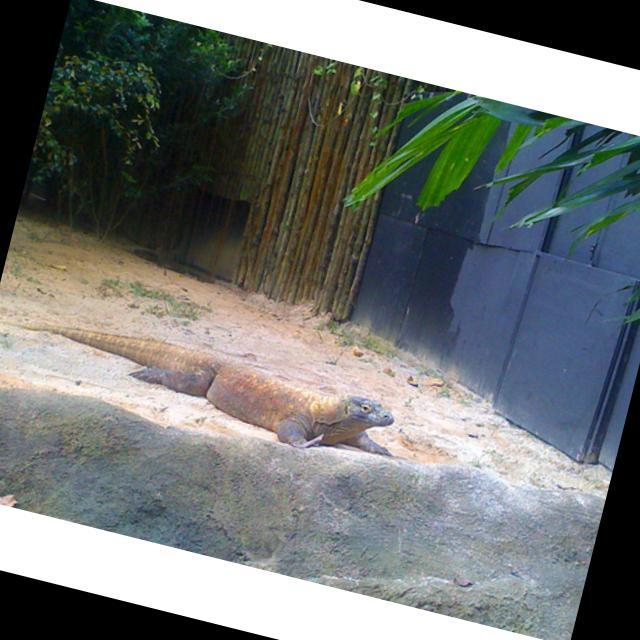KomodoDragon: (0, 305, 403, 483)
